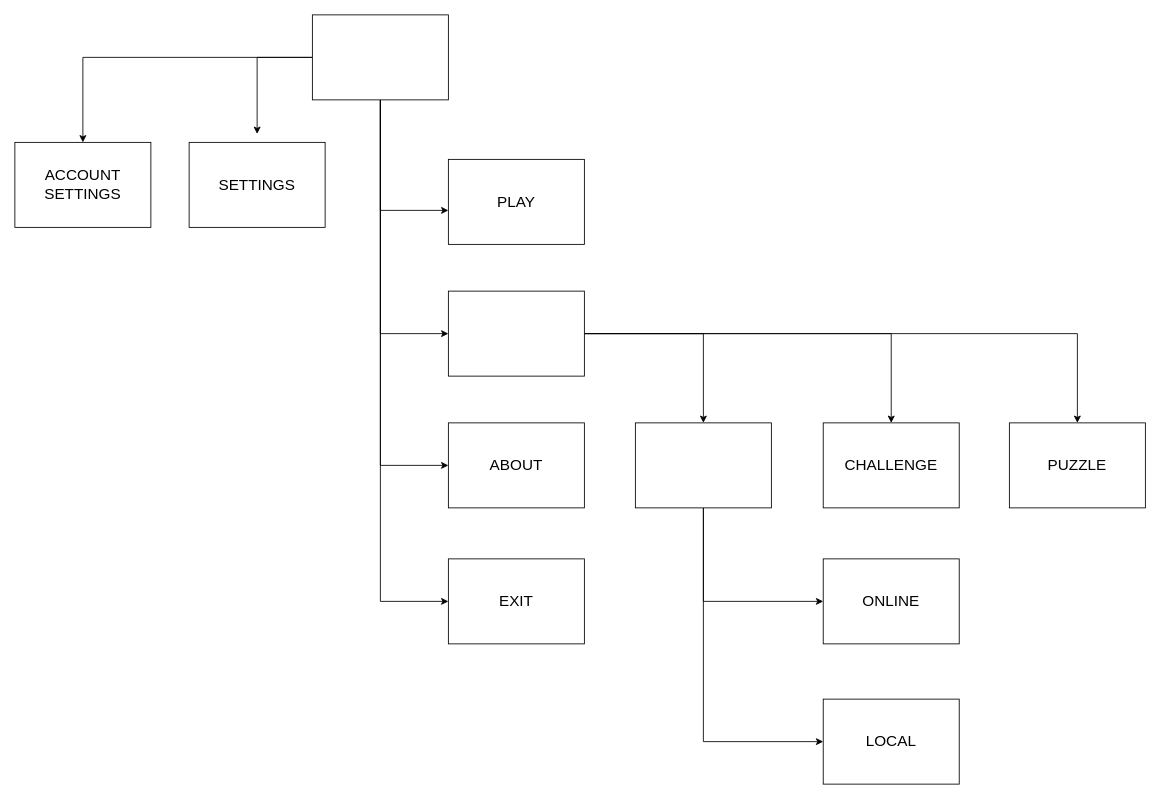
This 1160x799 diagram has some shape labels left out. Here are the shapes that lost their labels. From the top down, the box of each, then its label:
(312, 14, 448, 100): MAIN MENU
(448, 290, 584, 376): MODES MENU
(635, 422, 771, 508): MULTIPLAYER
